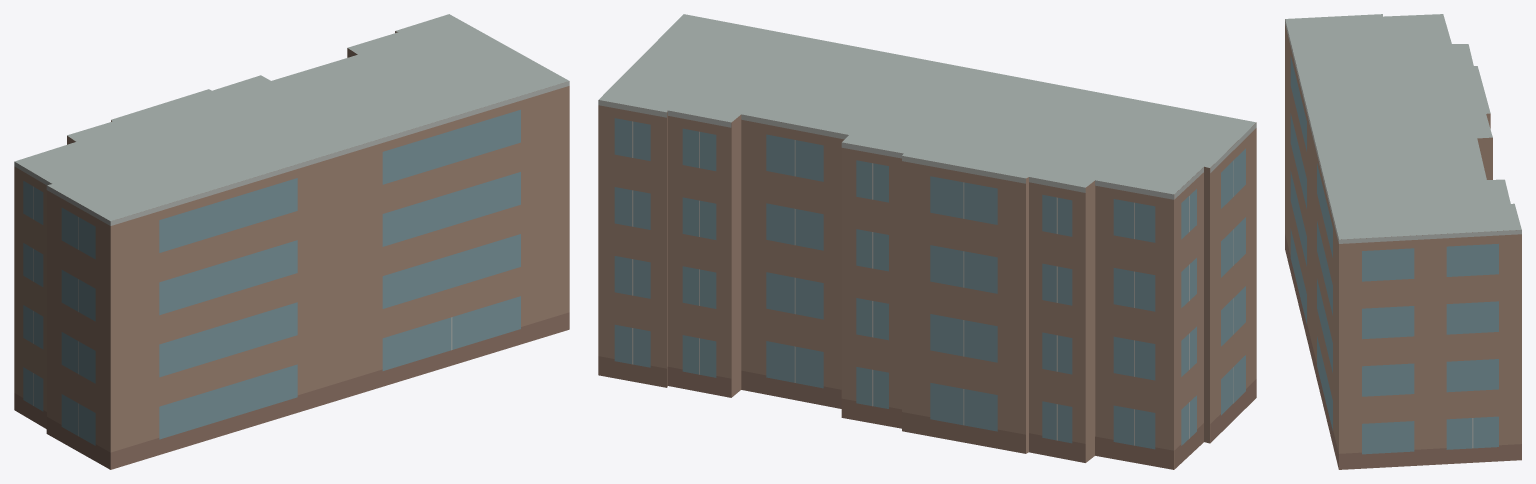
The model's file is survey-upis-33028090.glb.
The picture shows the model from 3 angles, left to right: view 1: azimuth 30°, elevation 25°; view 2: azimuth 150°, elevation 25°; view 3: azimuth 270°, elevation 25°; orthographic projection. The views are drawn at different scales.
Visible parts, largest first — view 1: survey-upis-33028090.tmp; view 2: survey-upis-33028090.tmp; view 3: survey-upis-33028090.tmp.
Part boxes in pixels (left/top/right/bottom): survey-upis-33028090.tmp: left=14, top=14, right=569, bottom=469; survey-upis-33028090.tmp: left=598, top=14, right=1256, bottom=469; survey-upis-33028090.tmp: left=1285, top=14, right=1521, bottom=469.
Bounding box in the file's own units: 26.47 × 12.6 × 11.75.
